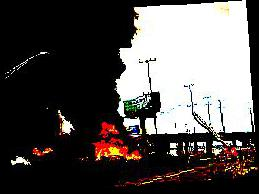fire: (87, 120, 145, 164)
